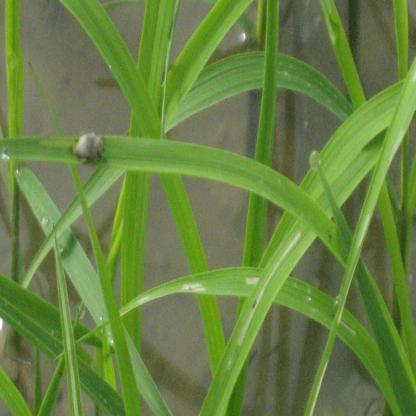rice-bug: (72, 130, 107, 165)
